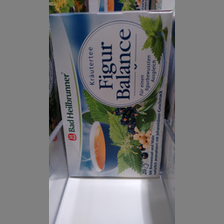tea: (50, 8, 173, 180)
